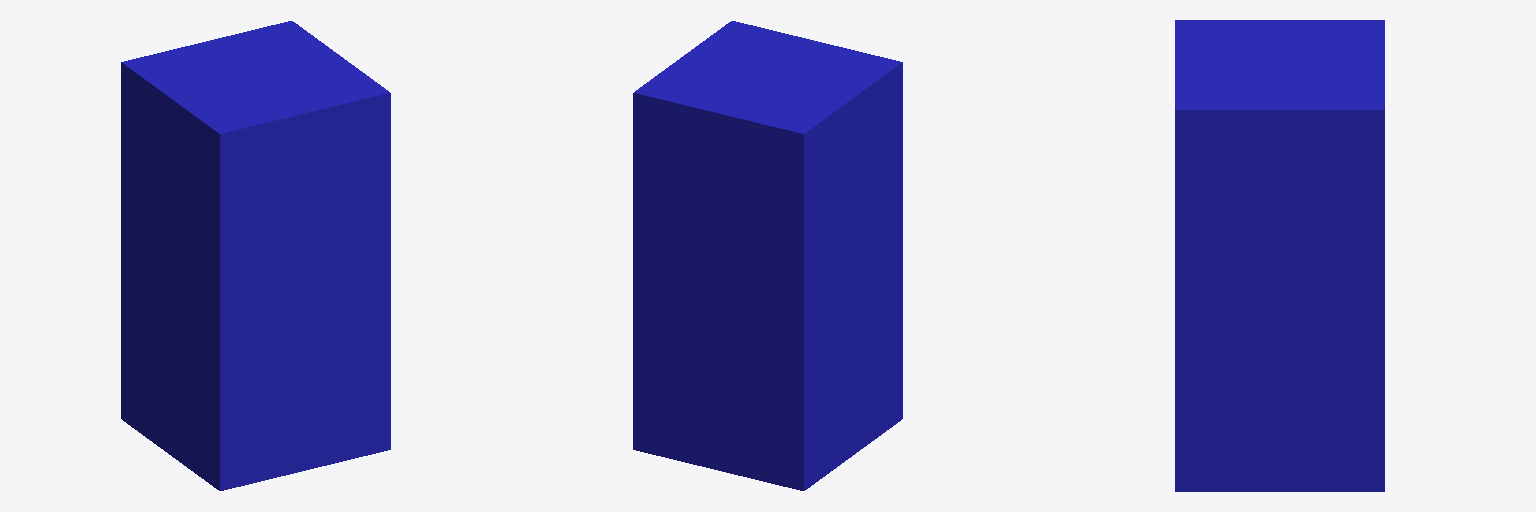
The robot description file, URDF, robot "robotiq_2f_85":
<?xml version="1.0"?>
<robot name="robotiq_2f_85">
  <link name="gripper_base">
    <visual>
      <geometry>
        <box size="0.05 0.05 0.1"/>
      </geometry>
      <material name="blue">
        <color rgba="0.2 0.2 0.8 1"/>
      </material>
    </visual>
    <collision>
      <geometry>
        <box size="0.05 0.05 0.1"/>
      </geometry>
    </collision>
    <inertial>
      <mass value="0.5"/>
      <inertia ixx="0.001" ixy="0" ixz="0" iyy="0.001" iyz="0" izz="0.001"/>
    </inertial>
  </link>
  <!-- Add more links/joints for real gripper -->
</robot>

--- Render facts (derived) ---
The picture shows the robot from 3 angles, left to right: view 1: azimuth 30°, elevation 25°; view 2: azimuth 150°, elevation 25°; view 3: azimuth 270°, elevation 25°; orthographic projection.
Robot: robotiq_2f_85 — 1 links, 0 joints (none); root link gripper_base; default pose: every joint at zero.
Links seen in each view (by area): view 1: gripper_base; view 2: gripper_base; view 3: gripper_base.
Boxes of the visible links, x1=… form: gripper_base: x1=121, y1=21, x2=390, y2=490; gripper_base: x1=633, y1=21, x2=902, y2=490; gripper_base: x1=1175, y1=20, x2=1384, y2=491.
Bounding box of the posed robot: 0.05 × 0.05 × 0.1 m (x, y, z).
Geometry: primitives only (box / cylinder / sphere), no mesh files.